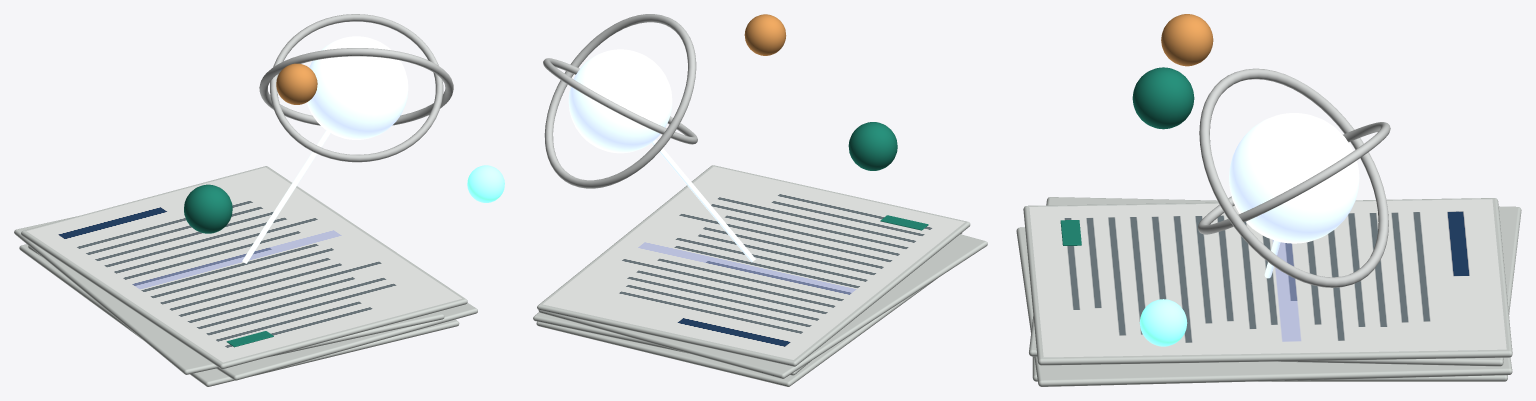
The model's file is agent-assistant.glb.
3 renders of one model, left to right at view 1: azimuth 30°, elevation 25°; view 2: azimuth 150°, elevation 25°; view 3: azimuth 270°, elevation 25°, orthographic. The views are drawn at different scales.
Visible parts, largest first — view 1: sheet-top, sheet (×3), assistant-core, assistant-ring (×2), sat-accent, sat-amber, sat-glow, beam; view 2: sheet-top, sheet (×3), assistant-core, assistant-ring (×2), sat-accent, sat-amber, beam; view 3: sheet-top, sheet (×3), assistant-core, assistant-ring (×2), sat-accent, sat-amber, sat-glow.
Boxes of the visible parts, <box> form: sheet-top: <box>21,166,467,369</box>; sheet (×3): <box>14,216,477,386</box>; assistant-core: <box>307,36,408,139</box>; assistant-ring (×2): <box>259,14,453,162</box>; sat-accent: <box>184,184,232,233</box>; sat-amber: <box>276,63,317,104</box>; sat-glow: <box>467,165,504,202</box>; beam: <box>242,130,330,263</box>; sheet-top: <box>537,165,970,366</box>; sheet (×3): <box>533,233,987,386</box>; assistant-core: <box>568,49,672,153</box>; assistant-ring (×2): <box>543,14,697,188</box>; sat-accent: <box>848,122,897,170</box>; sat-amber: <box>744,14,786,55</box>; beam: <box>652,139,755,262</box>; sheet-top: <box>1023,198,1512,365</box>; sheet (×3): <box>1016,197,1521,386</box>; assistant-core: <box>1229,113,1359,243</box>; assistant-ring (×2): <box>1197,68,1390,287</box>; sat-accent: <box>1132,67,1194,129</box>; sat-amber: <box>1161,14,1213,66</box>; sat-glow: <box>1139,299,1187,346</box>.
Bounding box in the file's own units: 4.45 × 2.82 × 4.25.
7 materials, 1 textured.
